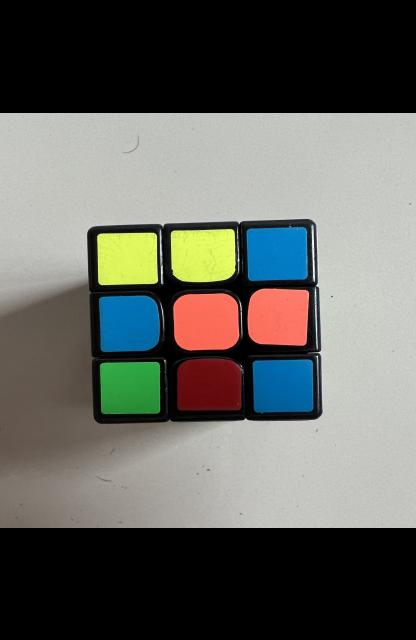Blue: (99, 294, 160, 351), (247, 226, 308, 280), (253, 358, 313, 412)
Green: (99, 361, 160, 413)
Orange: (173, 292, 239, 349), (248, 288, 309, 345)
Red: (177, 357, 242, 410)
Yellow: (170, 228, 236, 281), (97, 231, 158, 284)
